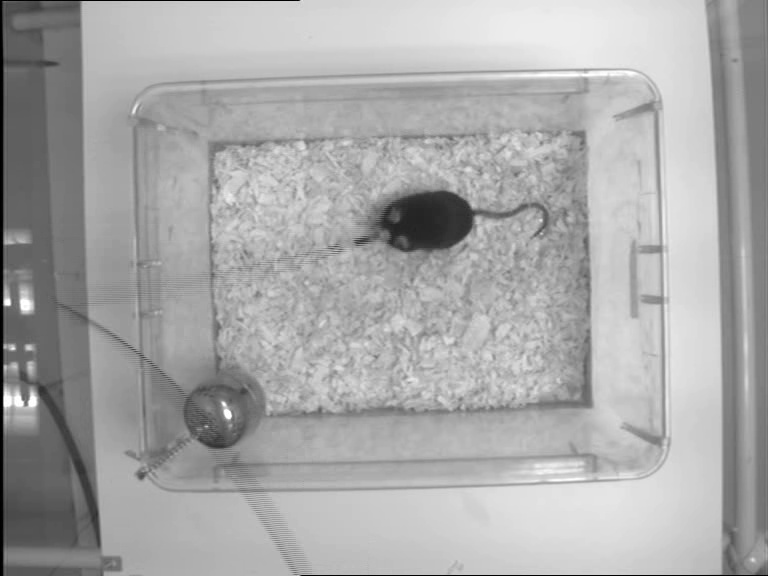mice: (379, 191, 548, 253)
